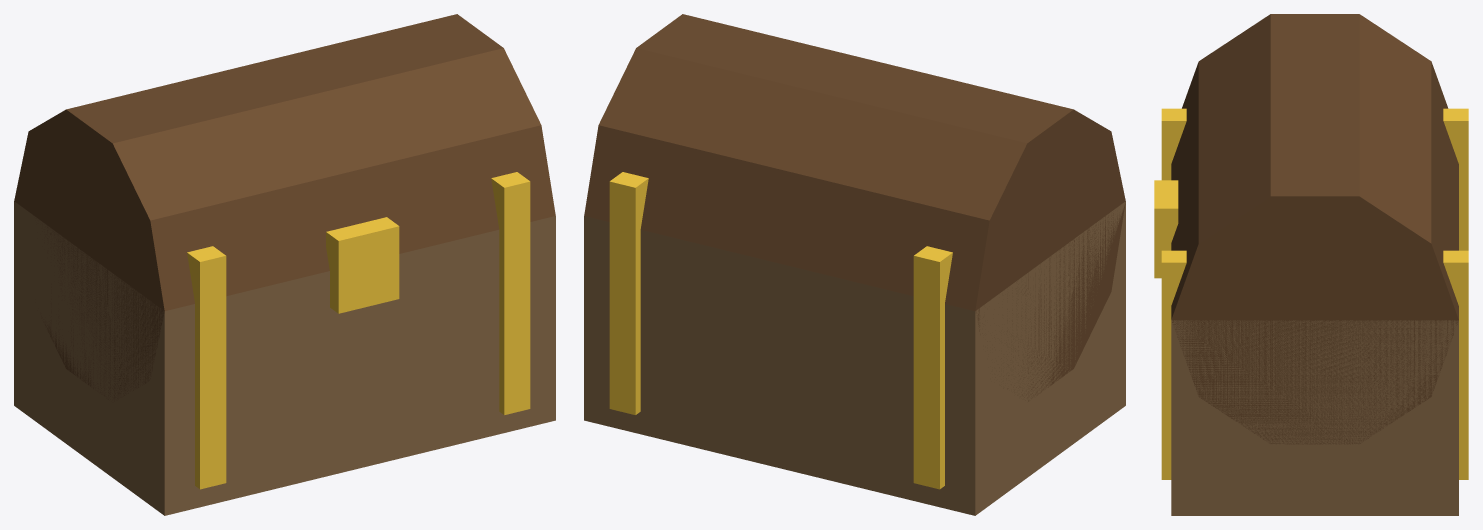
The model's file is chest.glb.
3 renders of one model, left to right at view 1: azimuth 30°, elevation 25°; view 2: azimuth 150°, elevation 25°; view 3: azimuth 270°, elevation 25°, orthographic. The views are drawn at different scales.
Visible parts, largest first — view 1: chest; view 2: chest; view 3: chest.
Boxes of the visible parts, x1=… form: chest: x1=14, y1=14, x2=555, y2=515; chest: x1=584, y1=14, x2=1125, y2=515; chest: x1=1154, y1=14, x2=1468, y2=515.
Size of the model in its own units: 0.9 by 0.7353 by 0.655.
